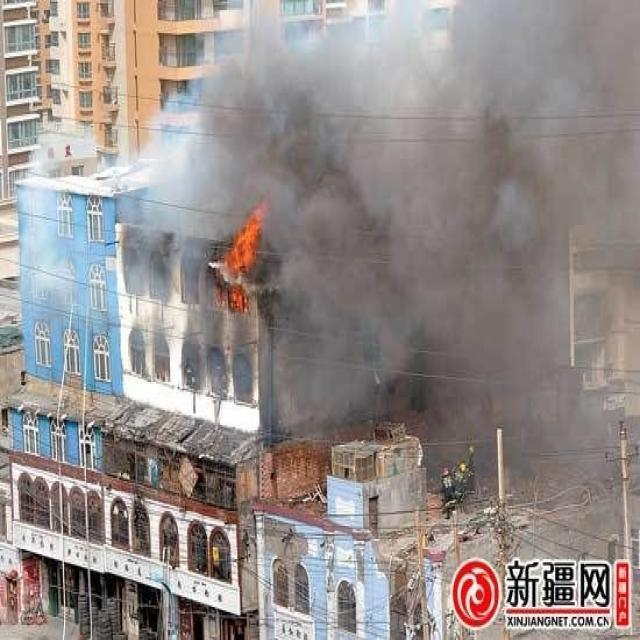Fire: (215, 198, 272, 316)
Smoke: (120, 1, 640, 492), (17, 120, 98, 304)
